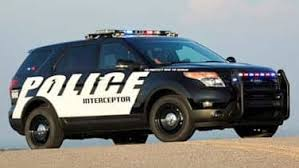special: (8, 28, 290, 149)
